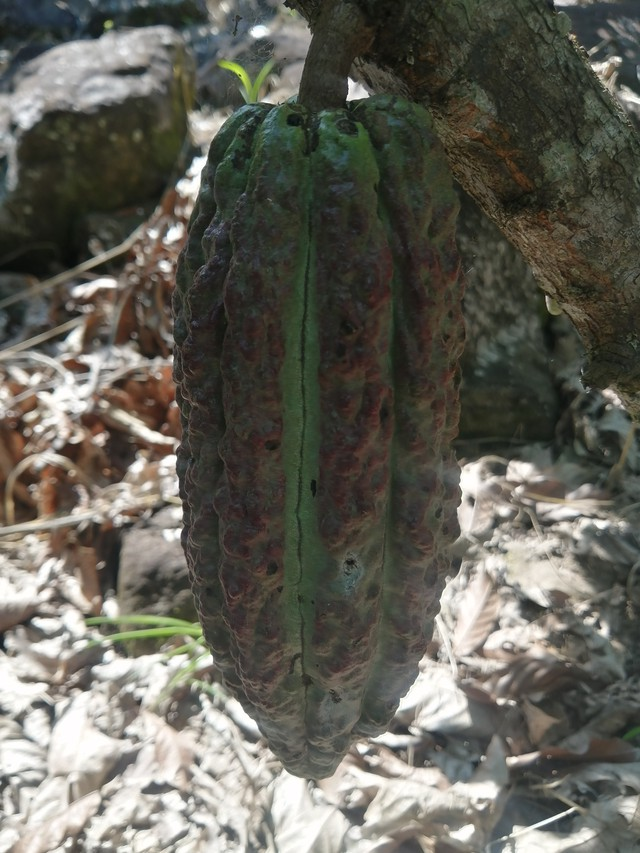Health: (151, 66, 488, 797)
